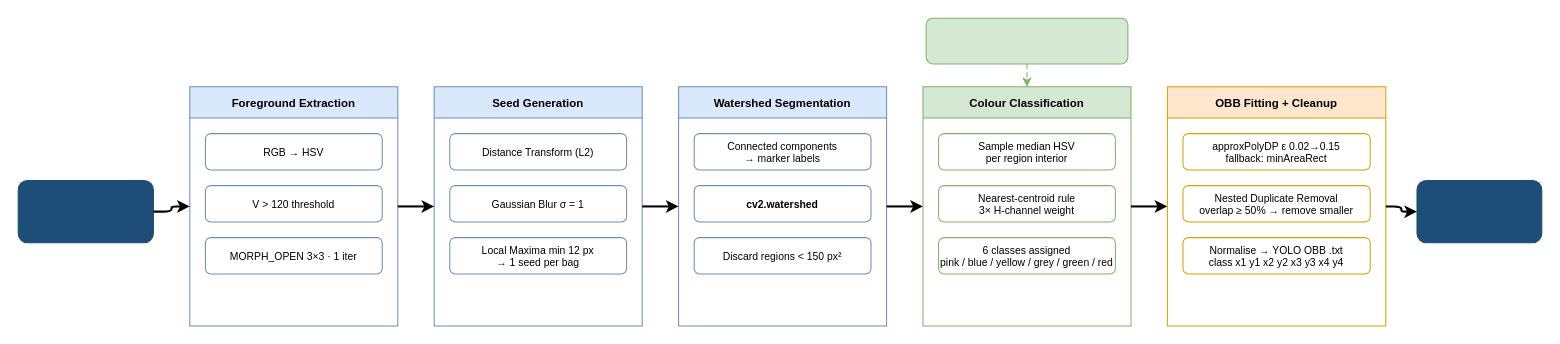
This 1560x344 diagram has some shape labels left out. Here are the shapes that lost their labels. From the top down, the centre of each, then its label:
point 1026,40: Ground Truth HSV Centroids (learned from 86 GT frames)
point 85,211: Raw Frame PNG · 1920×1080
point 1479,211: 1,071 YOLO OBB Label Files
